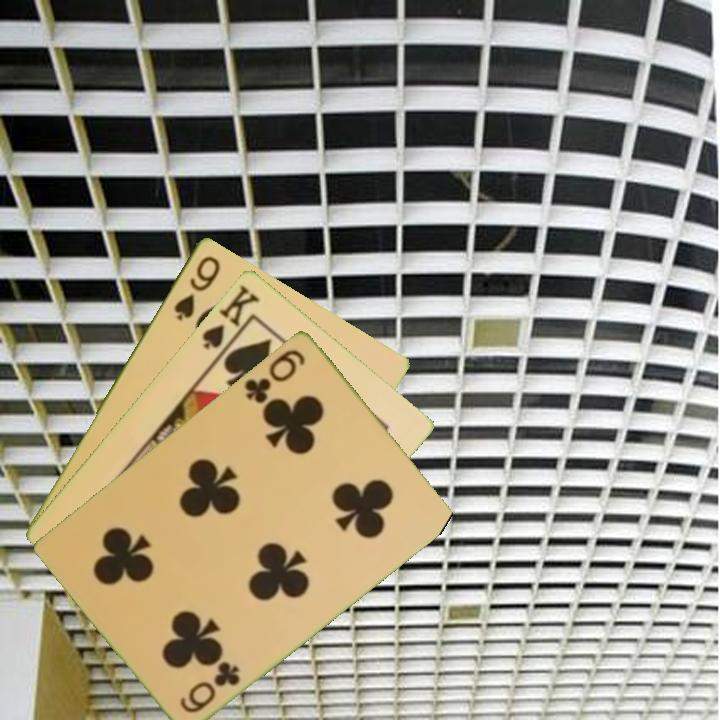6c: (240, 345, 309, 406), (176, 657, 244, 716)
9s: (170, 251, 224, 323)
Ks: (198, 280, 263, 360)
